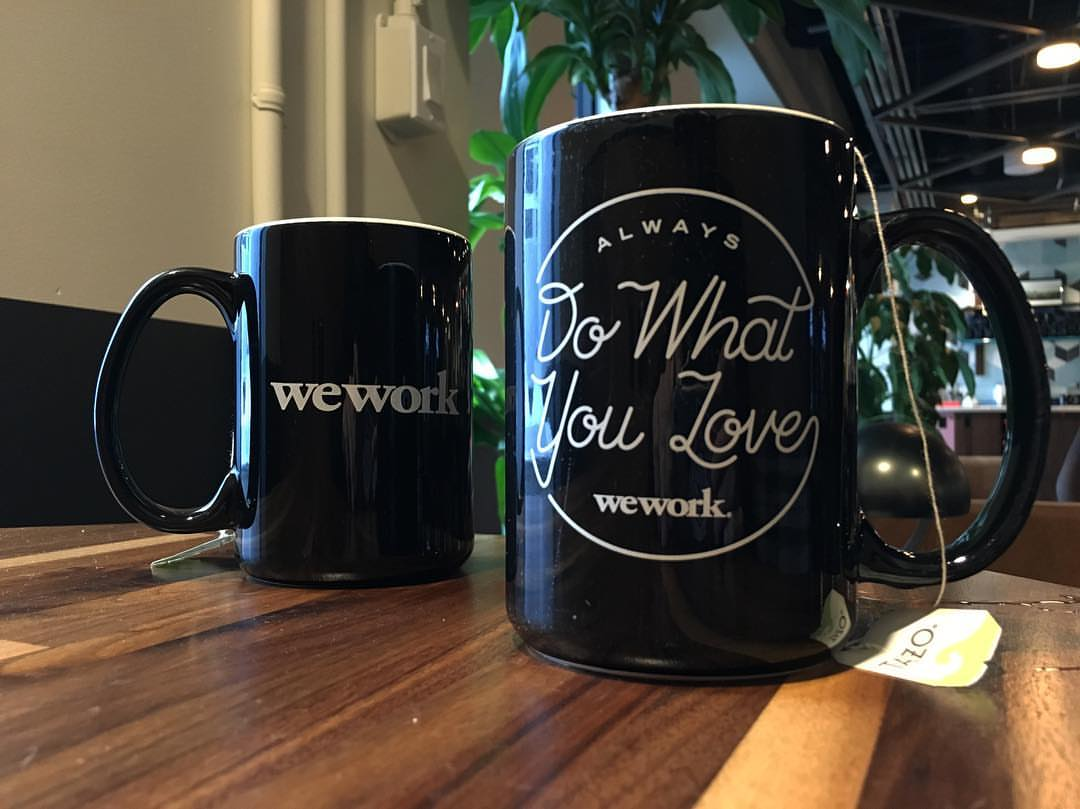wework: (265, 365, 463, 420), (590, 484, 727, 521)
